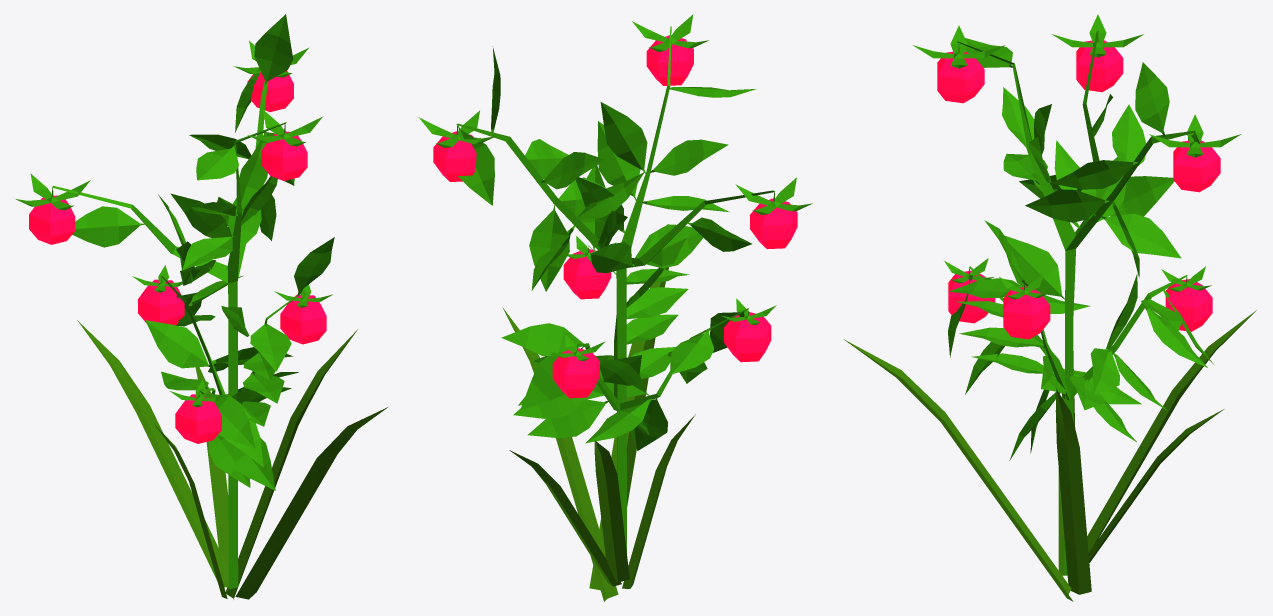
Rendered from raspberry.fbx.
3 renders of one model, left to right at view 1: azimuth 30°, elevation 25°; view 2: azimuth 150°, elevation 25°; view 3: azimuth 270°, elevation 25°, orthographic. The views are drawn at different scales.
Visible parts, largest first — view 1: grass; view 2: grass; view 3: grass.
Part boxes in pixels (x1,y1,x2,y2): grass: (14, 14, 387, 599); grass: (418, 14, 812, 601); grass: (843, 14, 1256, 601).
Bounding box in the file's own units: 42.77 × 65.03 × 42.63.
